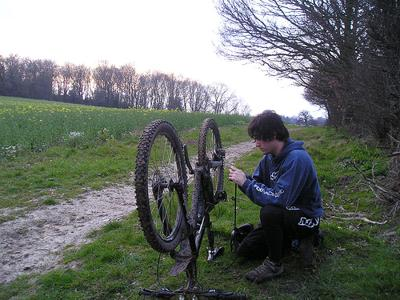person: (229, 111, 326, 282)
